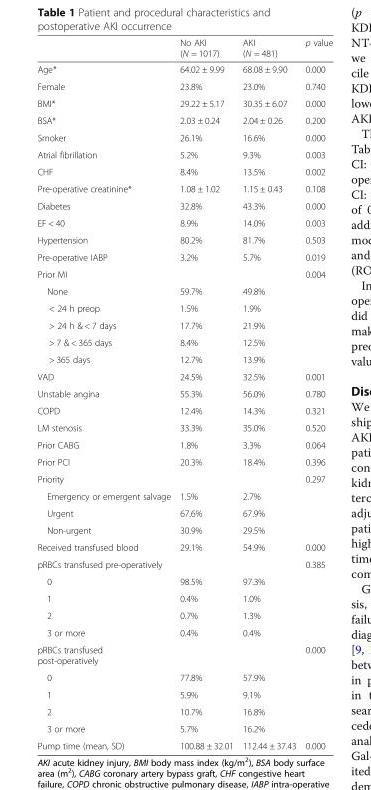table: (36, 36, 332, 750)
table column: (36, 36, 174, 750), (174, 36, 237, 750), (237, 36, 300, 750), (300, 36, 332, 750)
table column header: (36, 36, 332, 60)
table row: (36, 640, 332, 668), (36, 36, 332, 60), (36, 196, 332, 214), (36, 435, 332, 453), (36, 60, 332, 77), (36, 77, 332, 94), (36, 94, 332, 111), (36, 111, 332, 128), (36, 128, 332, 145), (36, 145, 332, 162), (36, 162, 332, 179), (36, 179, 332, 196), (36, 214, 332, 231), (36, 231, 332, 248), (36, 248, 332, 265), (36, 265, 332, 282), (36, 282, 332, 299), (36, 299, 332, 316), (36, 316, 332, 333), (36, 333, 332, 350), (36, 350, 332, 367), (36, 367, 332, 384), (36, 384, 332, 401), (36, 401, 332, 418), (36, 418, 332, 435), (36, 453, 332, 470), (36, 470, 332, 487), (36, 487, 332, 504), (36, 504, 332, 521), (36, 521, 332, 538), (36, 538, 332, 555), (36, 555, 332, 572), (36, 572, 332, 589), (36, 589, 332, 606), (36, 606, 332, 623), (36, 623, 332, 640), (36, 668, 332, 685), (36, 685, 332, 702), (36, 702, 332, 719), (36, 719, 332, 736), (36, 736, 332, 750)
